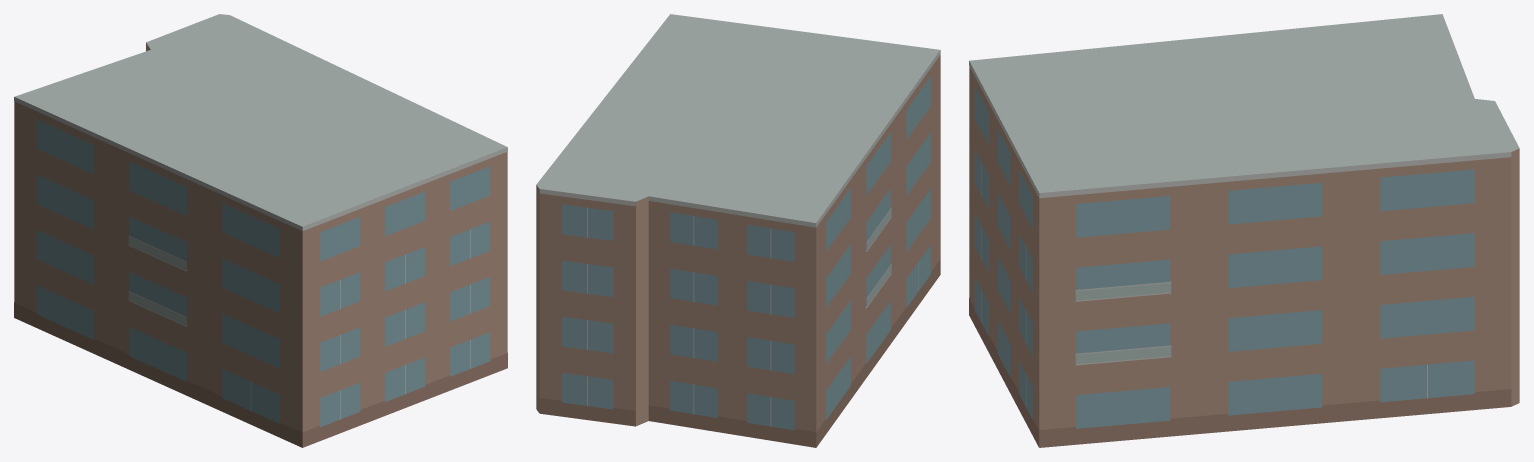
The model's file is survey-upis-32495446.glb.
The picture shows the model from 3 angles, left to right: view 1: azimuth 30°, elevation 25°; view 2: azimuth 150°, elevation 25°; view 3: azimuth 270°, elevation 25°; orthographic projection. The views are drawn at different scales.
Visible parts, largest first — view 1: survey-upis-32495446.tmp; view 2: survey-upis-32495446.tmp; view 3: survey-upis-32495446.tmp.
Part boxes in pixels (<box>): survey-upis-32495446.tmp: <box>14,14,507,447</box>; survey-upis-32495446.tmp: <box>536,14,940,447</box>; survey-upis-32495446.tmp: <box>969,14,1519,447</box>.
Bounding box in the file's own units: 18.34 × 12.15 × 23.81.
